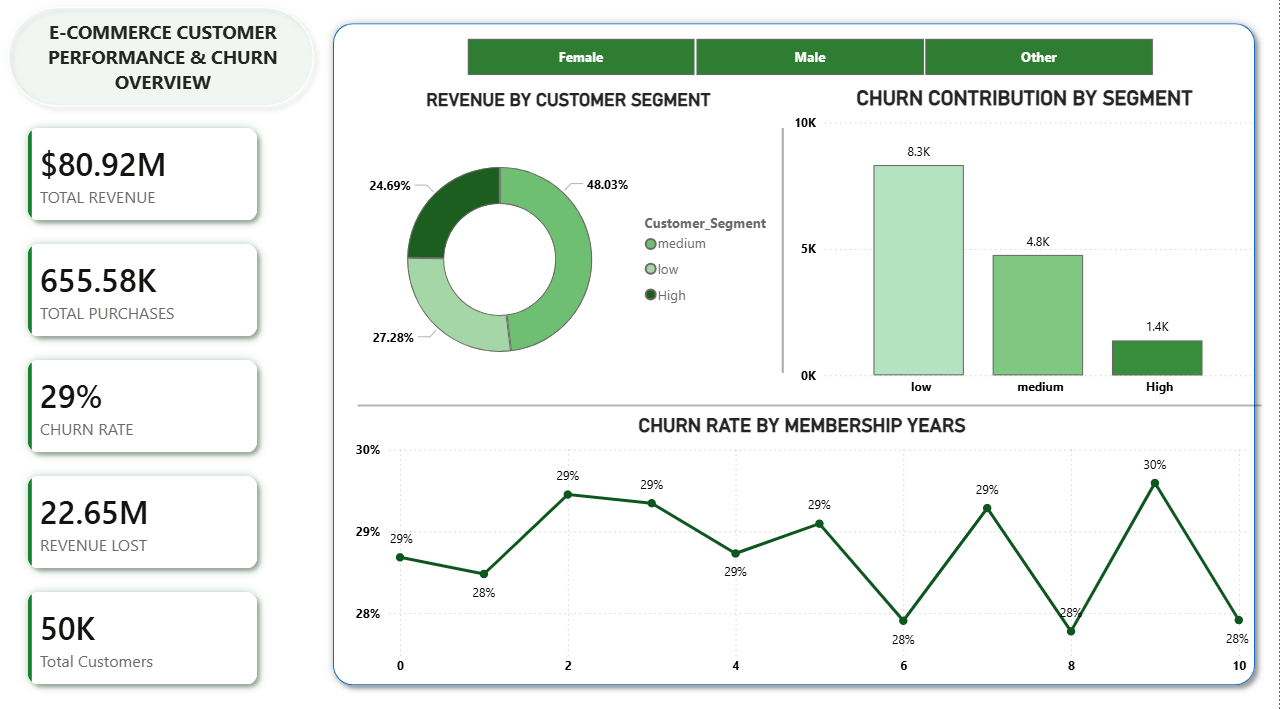

Layout of this report page (visuals, bound fields, positions):
{"tool":"powerbi","page":{"name":"Executive sales & churn overview","canvas":[1280,720],"ordinal":0},"visuals":[{"type":"cardVisual","fields":{"Data":["Sum(ecommerce_customer_churn_datase.Total_Revenue)","Sum(ecommerce_customer_churn_datase.Total_Purchases)","ecommerce_customer_churn_datase.Churn Rate","ecommerce_customer_churn_datase.Revenue Lost","ecommerce_customer_churn_datase.Total Customers"]},"box":[0,101.2,287.5,618.8],"z":0},{"type":"shape","box":[325,16.2,940,680],"z":1000},{"type":"donutChart","title":"REVENUE BY CUSTOMER SEGMENT","fields":{"Category":["ecommerce_customer_churn_datase.Customer_Segment"],"Y":["Sum(ecommerce_customer_churn_datase.Total_Revenue)"]},"box":[351.2,91.2,436.2,320],"z":2000},{"type":"lineChart","title":"CHURN RATE BY MEMBERSHIP YEARS","fields":{"Y":["ecommerce_customer_churn_datase.Churn Rate"],"Category":["ecommerce_customer_churn_datase.Membership Years (Rounded)"]},"box":[351.2,416.2,903.8,270],"z":3000},{"type":"columnChart","title":"CHURN CONTRIBUTION BY SEGMENT","fields":{"Category":["ecommerce_customer_churn_datase.Customer_Segment"],"Y":["ecommerce_customer_churn_datase.churned customers"]},"box":[790,87.5,471.2,320],"z":4000},{"type":"shape","box":[358.8,398.8,903.8,17.5],"z":5000},{"type":"slicer","fields":{"Values":["ecommerce_customer_churn_datase.Gender"]},"box":[442.5,33.8,735,50],"z":6000},{"type":"shape","box":[777.5,130,12.5,245],"z":7000},{"type":"shape","box":[0,0,323.8,117.5],"z":8000},{"type":"textbox","box":[15,16.2,297.5,101.2],"z":9000}]}

Visuals, with their boxes in screenshot pixels (x1, y1, x2, y2), scaled from the page's 1280x720 canvas onto the 1280x709 screenshot:
cardVisual - Sum(ecommerce_customer_churn_datase.Total_Revenue) x Sum(ecommerce_customer_churn_datase.Total_Purchases): box(0, 100, 288, 708)
shape: box(325, 16, 1265, 686)
"REVENUE BY CUSTOMER SEGMENT" donutChart: box(351, 90, 787, 405)
"CHURN RATE BY MEMBERSHIP YEARS" lineChart: box(351, 410, 1255, 676)
"CHURN CONTRIBUTION BY SEGMENT" columnChart: box(790, 86, 1261, 401)
shape: box(359, 393, 1263, 410)
slicer - ecommerce_customer_churn_datase.Gender: box(442, 33, 1178, 83)
shape: box(778, 128, 790, 369)
shape: box(0, 0, 324, 116)
textbox: box(15, 16, 312, 116)
